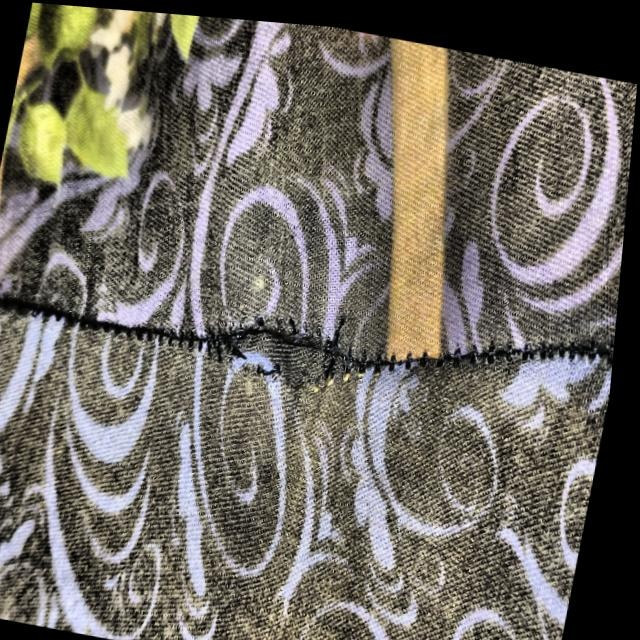seam: (135, 248, 441, 454)
